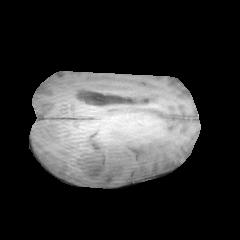glioma: (60, 132, 132, 180)
